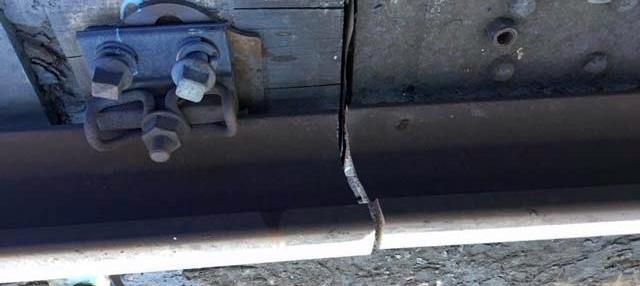duan lie: (326, 103, 393, 256)
